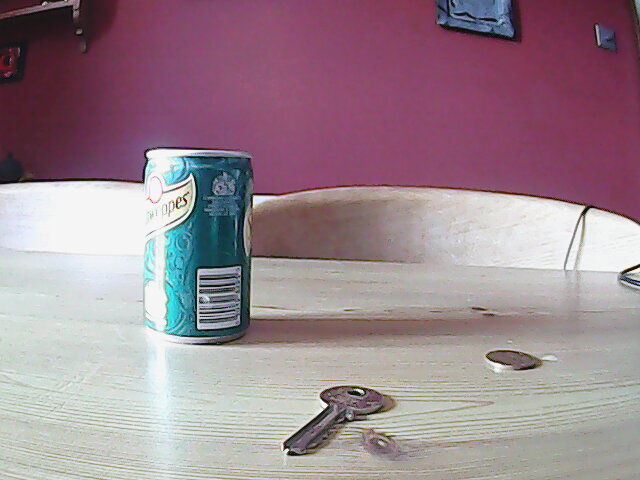Can: (138, 146, 257, 348)
Coin: (482, 348, 538, 374)
Key: (279, 383, 385, 459)
